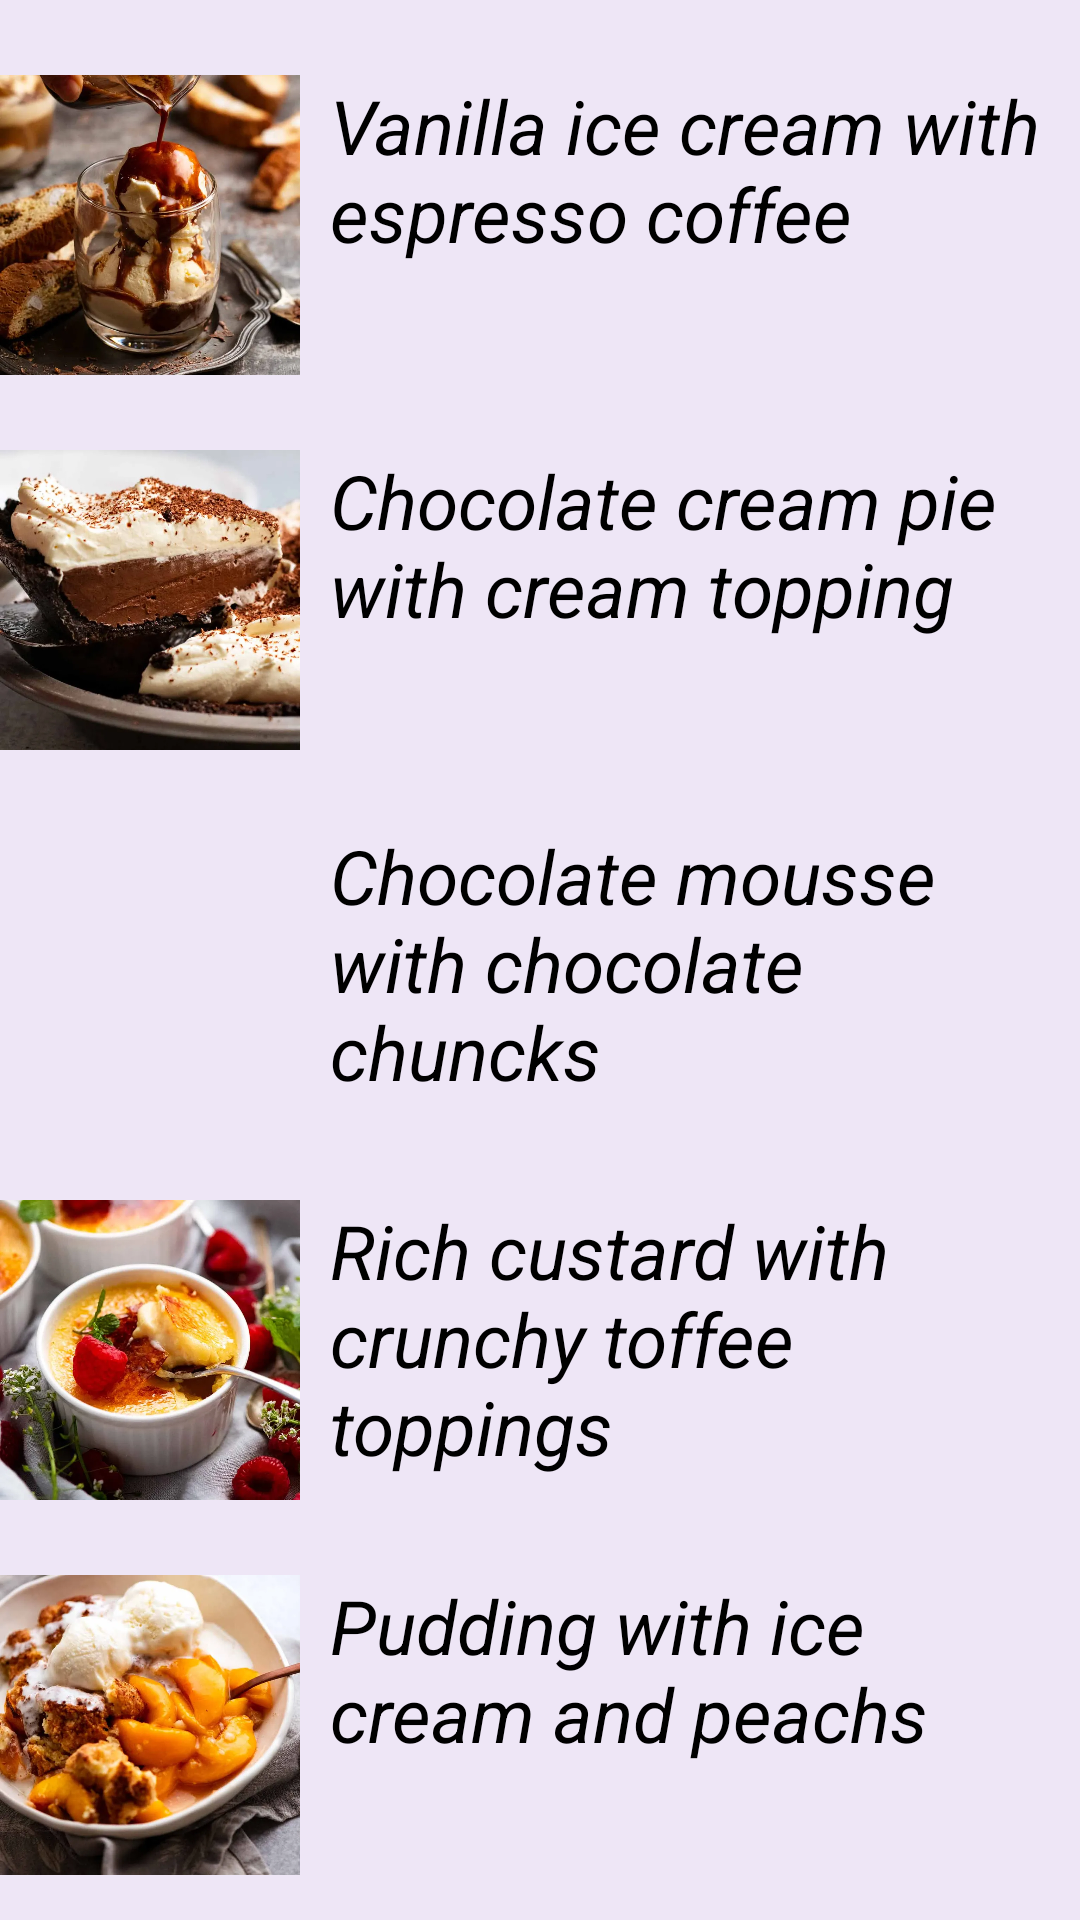

Named icons in this screenshot (1080px x 1920px) and their centers, point (x, y):
dess: point (150, 225), point (150, 600), point (150, 1350), point (150, 1725)
